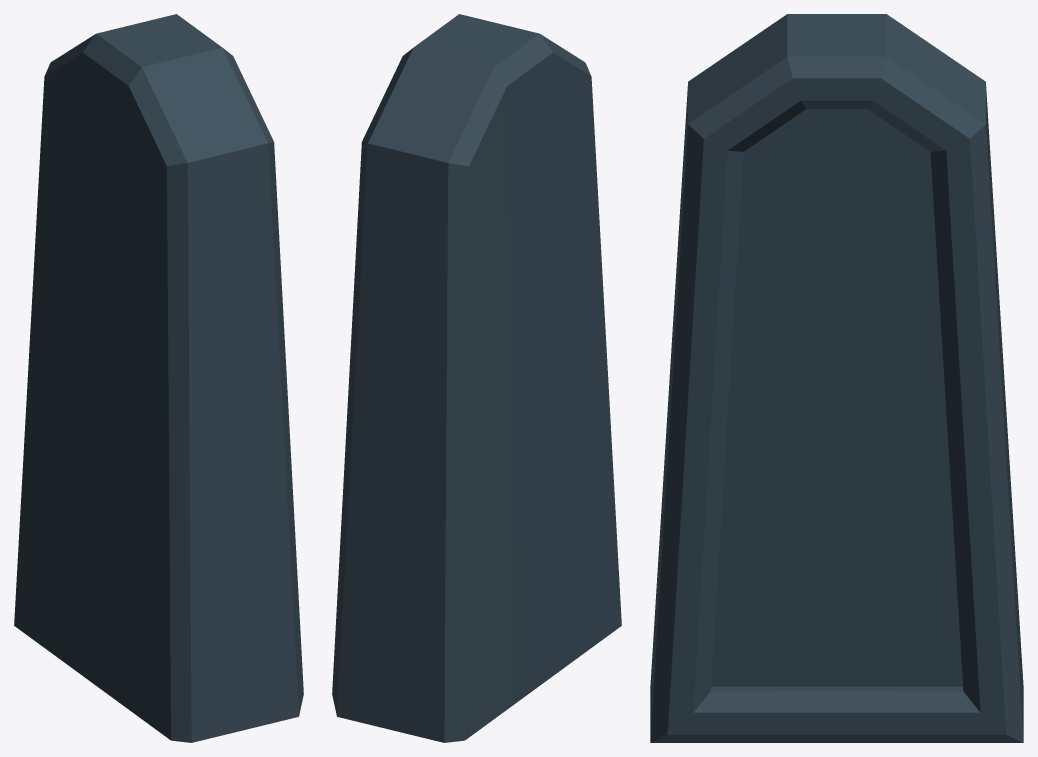
File: Graves03- Halloween.fbx
The picture shows the model from 3 angles, left to right: view 1: azimuth 30°, elevation 25°; view 2: azimuth 150°, elevation 25°; view 3: azimuth 270°, elevation 25°; orthographic projection. The views are drawn at different scales.
Visible parts, largest first — view 1: Grave 5; view 2: Grave 5; view 3: Grave 5.
Part boxes in pixels (x1,y1,x2,y2): Grave 5: (14,14,303,742); Grave 5: (332,14,621,742); Grave 5: (650,14,1023,742).
Size of the model in its own units: 59.48 by 267 by 133.
